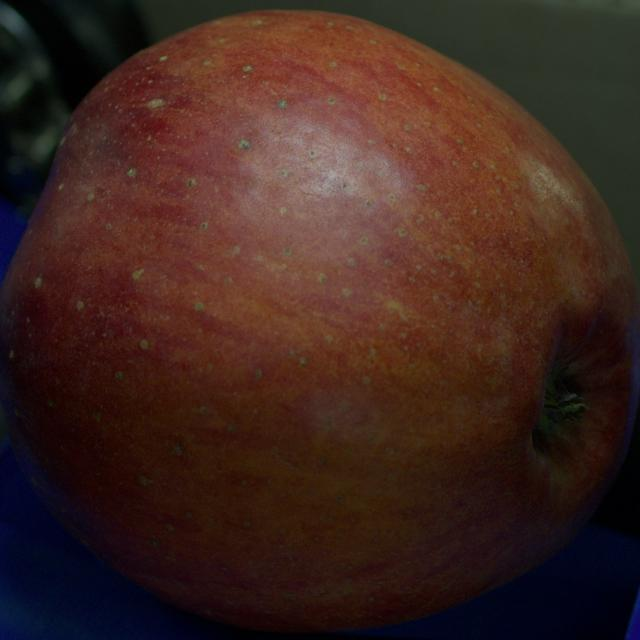apple: (0, 11, 639, 633)
